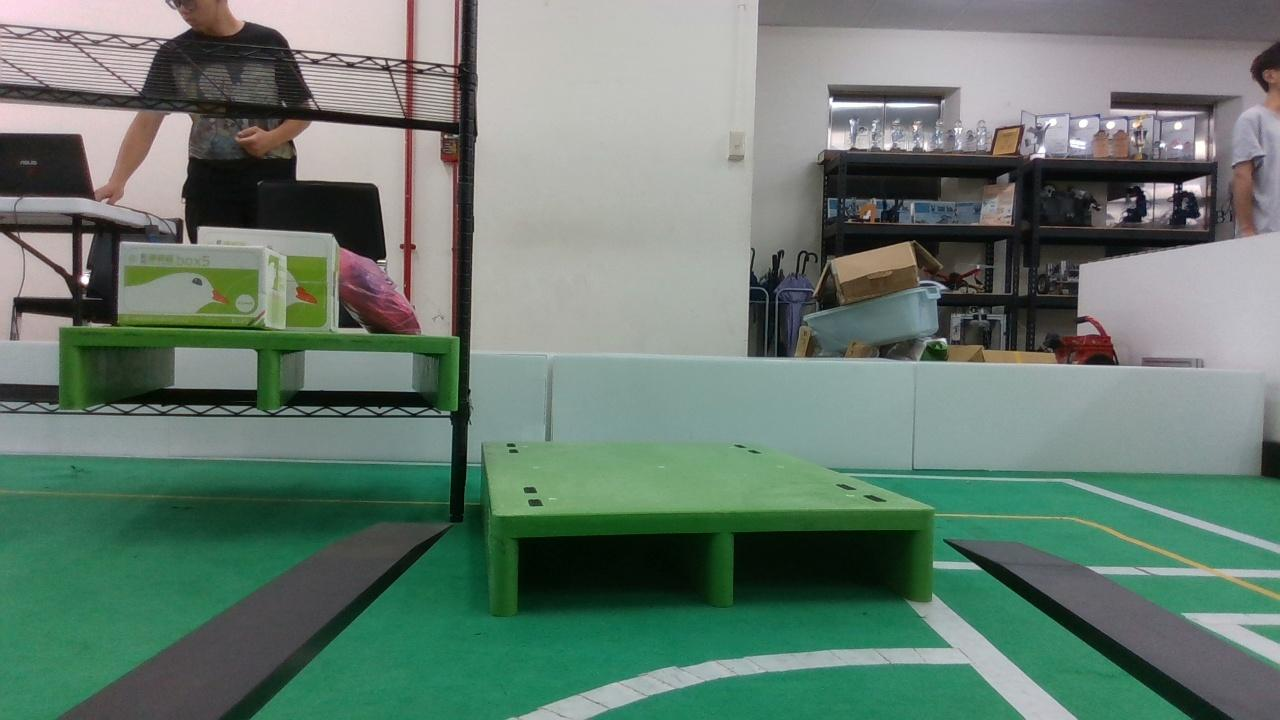Pallet: (488, 508, 934, 617), (60, 325, 460, 413)
